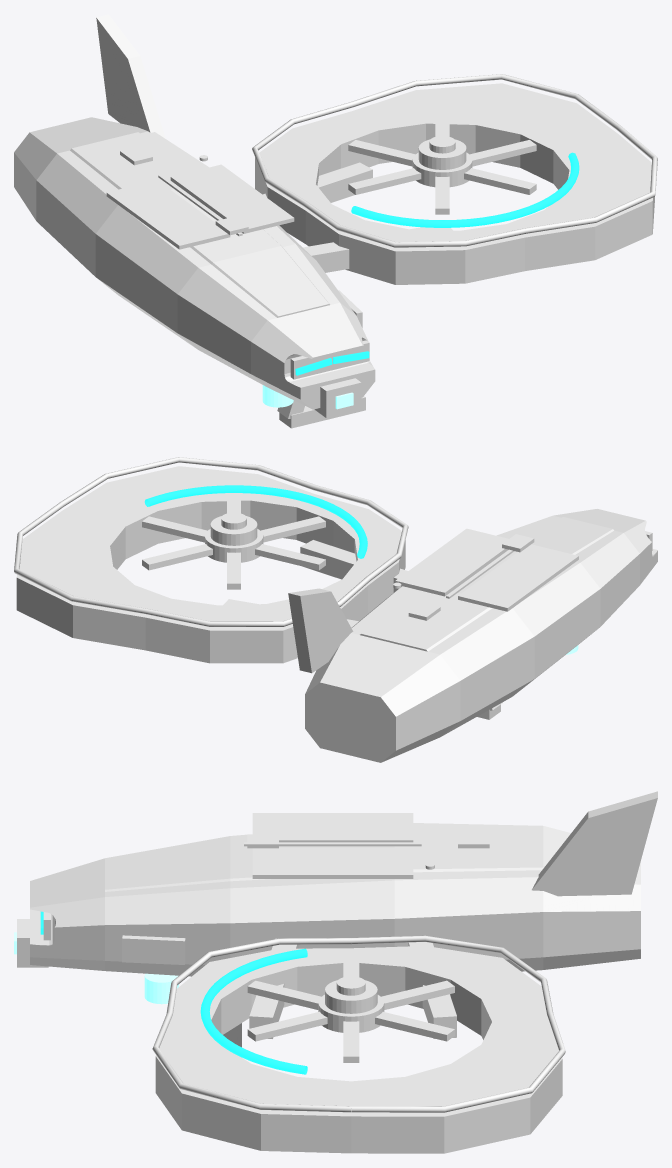
File: morrowgear-family-a-scout.glb
The picture shows the model from 3 angles, top to bottom: view 1: azimuth 30°, elevation 25°; view 2: azimuth 150°, elevation 25°; view 3: azimuth 270°, elevation 25°; orthographic projection. The views are drawn at different scales.
Visible parts, largest first — view 1: Rotor_Duct.R, Fuselage_Main, Fuselage_Upper_Armor, Duct_Outer_Trim.R, Tail_Fin.R, Top_Inlay_-0.31, Top_Inlay_+0.31, Duct_Cyan_Arc.R, Rotor_Blade_0.R, Rotor_Blade_120.R, Rotor_Arm_Rear.R, Sensor_Chin (+6 smaller); view 2: Rotor_Duct.R, Fuselage_Main, Fuselage_Upper_Armor, Duct_Outer_Trim.R, Top_Inlay_-0.31, Top_Inlay_+0.31, Tail_Fin.R, Duct_Cyan_Arc.R, Rotor_Blade_60.R, Rotor_Blade_0.R, Rotor_Arm_Front.R, Rotor_Hub.R (+2 smaller); view 3: Rotor_Duct.R, Fuselage_Main, Fuselage_Upper_Armor, Tail_Fin.R, Duct_Outer_Trim.R, Top_Inlay_+0.31, Top_Inlay_-0.31, Duct_Cyan_Arc.R, Rotor_Blade_60.R, Rotor_Blade_120.R, Side_Intake.R, Rotor_Hub.R (+7 smaller).
Boxes of the visible parts, box(x1,y1,x2,y2) form: Rotor_Duct.R: box(255, 83, 654, 284); Fuselage_Main: box(14, 117, 375, 409); Fuselage_Upper_Armor: box(70, 132, 329, 317); Duct_Outer_Trim.R: box(252, 74, 657, 247); Tail_Fin.R: box(96, 14, 165, 138); Top_Inlay_-0.31: box(106, 180, 230, 249); Top_Inlay_+0.31: box(170, 164, 294, 233); Duct_Cyan_Arc.R: box(351, 152, 579, 227); Rotor_Blade_0.R: box(348, 140, 536, 194); Rotor_Blade_120.R: box(348, 140, 536, 194); Rotor_Arm_Rear.R: box(263, 162, 372, 202); Sensor_Chin: box(314, 378, 361, 417); Rotor_Duct.R: box(16, 466, 405, 663); Fuselage_Main: box(305, 509, 657, 762); Fuselage_Upper_Armor: box(360, 517, 613, 651); Duct_Outer_Trim.R: box(14, 457, 408, 626); Top_Inlay_-0.31: box(458, 544, 578, 611); Top_Inlay_+0.31: box(395, 528, 508, 596); Tail_Fin.R: box(288, 588, 353, 673); Duct_Cyan_Arc.R: box(144, 485, 367, 558); Rotor_Blade_60.R: box(142, 516, 325, 570); Rotor_Blade_0.R: box(142, 516, 325, 570); Rotor_Arm_Front.R: box(300, 540, 407, 592); Rotor_Hub.R: box(210, 516, 257, 545); Rotor_Duct.R: box(155, 946, 562, 1153); Fuselage_Main: box(30, 823, 640, 976); Fuselage_Upper_Armor: box(105, 829, 543, 891); Tail_Fin.R: box(532, 791, 657, 896); Duct_Outer_Trim.R: box(152, 935, 565, 1112); Top_Inlay_+0.31: box(252, 847, 413, 878); Top_Inlay_-0.31: box(252, 813, 413, 842); Duct_Cyan_Arc.R: box(200, 948, 307, 1074); Rotor_Blade_60.R: box(247, 980, 454, 1041); Rotor_Blade_120.R: box(247, 980, 454, 1041); Side_Intake.R: box(122, 935, 185, 964); Rotor_Hub.R: box(325, 980, 377, 1013).
Size of what is drawn, in the model's own units: 4.89 by 2.43 by 4.89.
